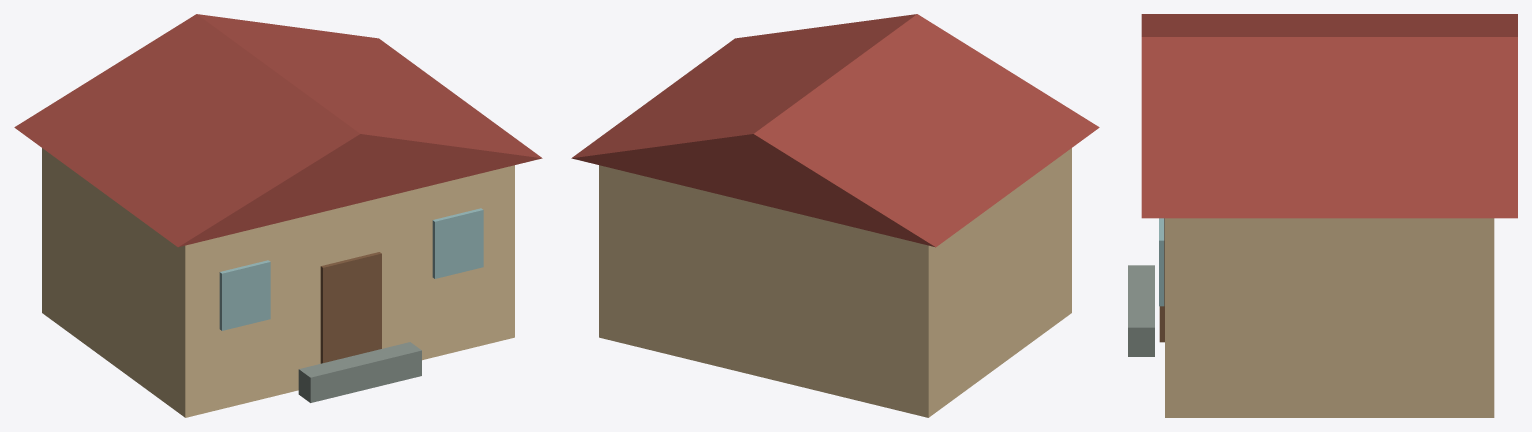
The model's file is bld_tavern.glb.
3 renders of one model, left to right at view 1: azimuth 30°, elevation 25°; view 2: azimuth 150°, elevation 25°; view 3: azimuth 270°, elevation 25°, orthographic. The views are drawn at different scales.
Parts seen in each view (by area): view 1: bld_tavern; view 2: bld_tavern; view 3: bld_tavern.
Part boxes in pixels (bbox=[...]): bld_tavern: bbox=[14, 14, 542, 417]; bld_tavern: bbox=[571, 14, 1099, 417]; bld_tavern: bbox=[1128, 14, 1517, 417].
Size of the model in its own units: 3.6 by 2.37 by 2.9.
Materials: 1 (1 with a texture image).
